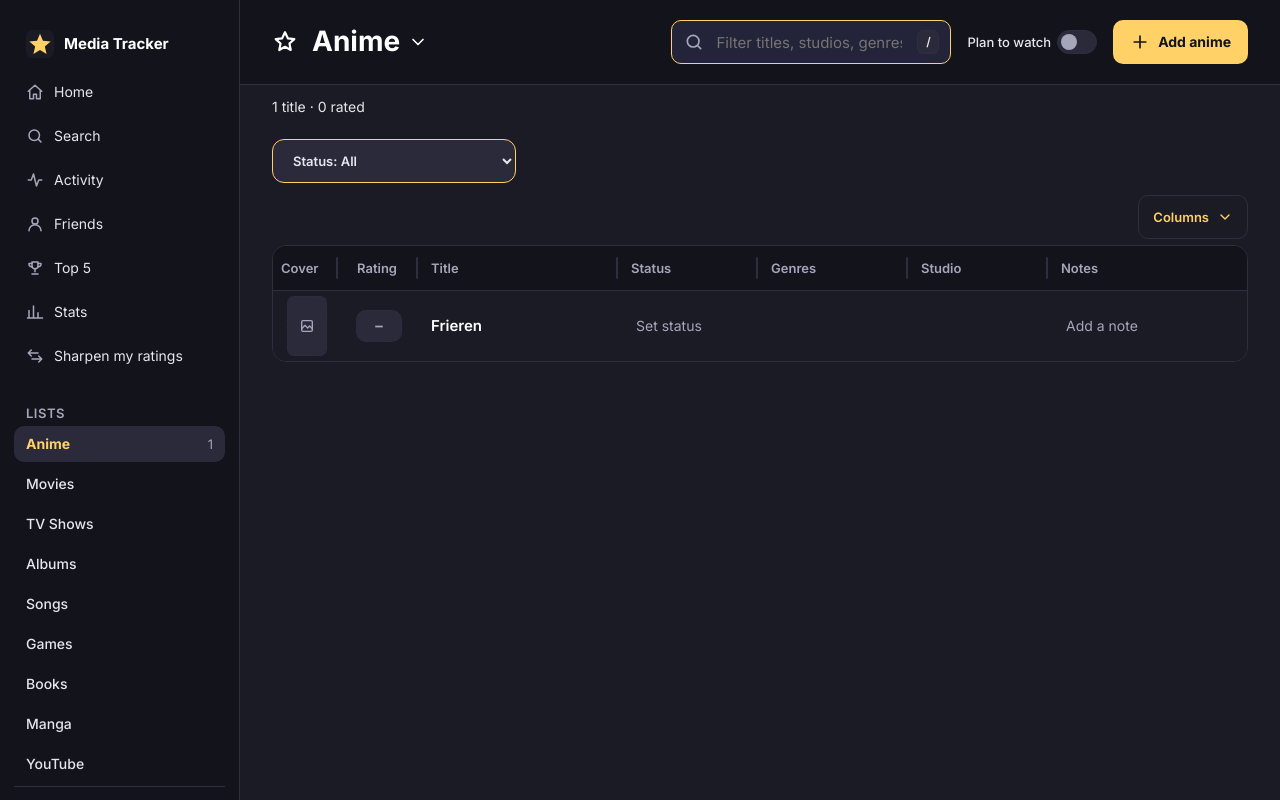
Test case: cover viewer: the title's buttons › anime: Play trailer only
The width and height of the screenshot is (1280, 800).
Hover over the row "– Frieren Set status Add a note": {"x": 770, "y": 326} [273,290,1267,361]
(page scrolled)
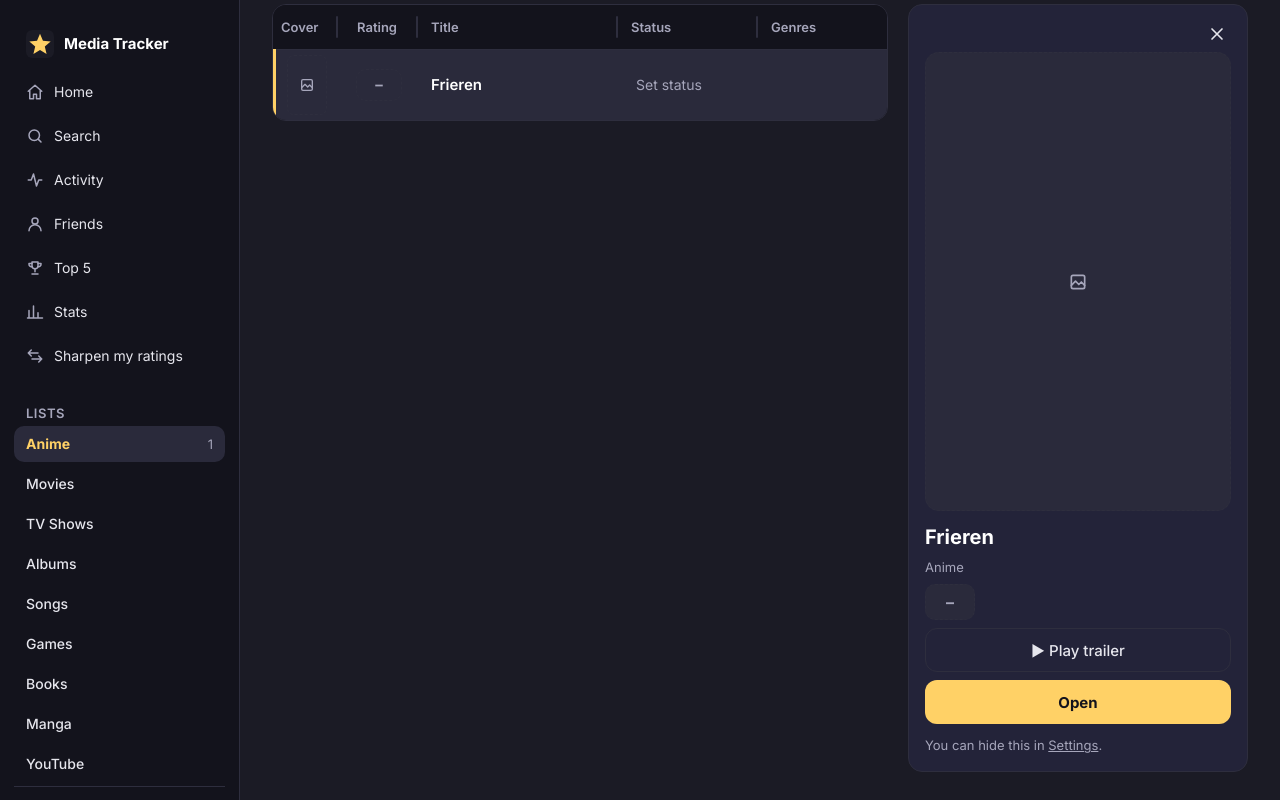
Check: the button "▶ Play trailer" is shown, box [925,628,1231,672]
